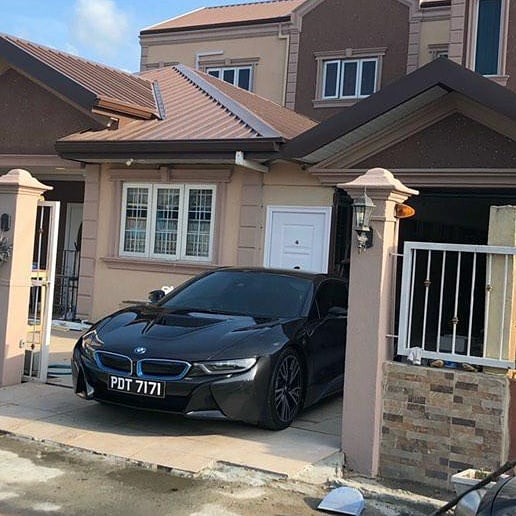License-Plate: (109, 374, 165, 389)
